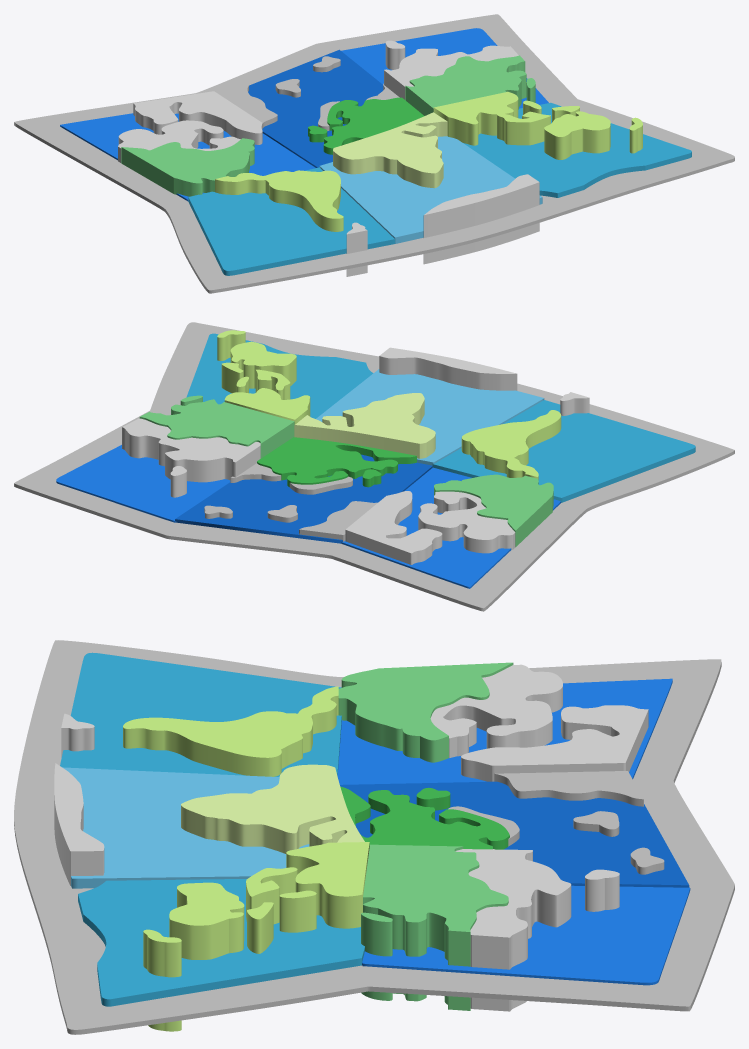
The model's file is emoji_u1f5fa.glb.
3 renders of one model, top to bottom at view 1: azimuth 30°, elevation 25°; view 2: azimuth 150°, elevation 25°; view 3: azimuth 270°, elevation 25°, orthographic. The views are drawn at different scales.
Parts seen in each view (by area): view 1: emoji_u1f5fa; view 2: emoji_u1f5fa; view 3: emoji_u1f5fa.
Boxes of the visible parts, x1,y1,x2,y2 form: emoji_u1f5fa: [14, 14, 734, 293]; emoji_u1f5fa: [14, 322, 734, 611]; emoji_u1f5fa: [14, 640, 734, 1034].
Bounding box in the file's own units: 0.0339 × 0.0036 × 0.0265.
